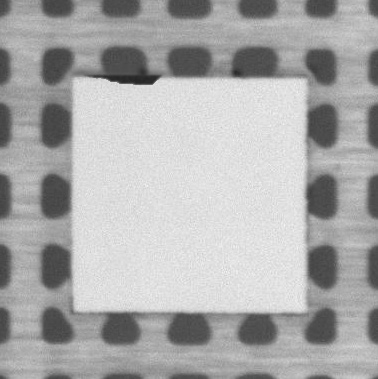DIE_BROKEN: (87, 69, 164, 86)
